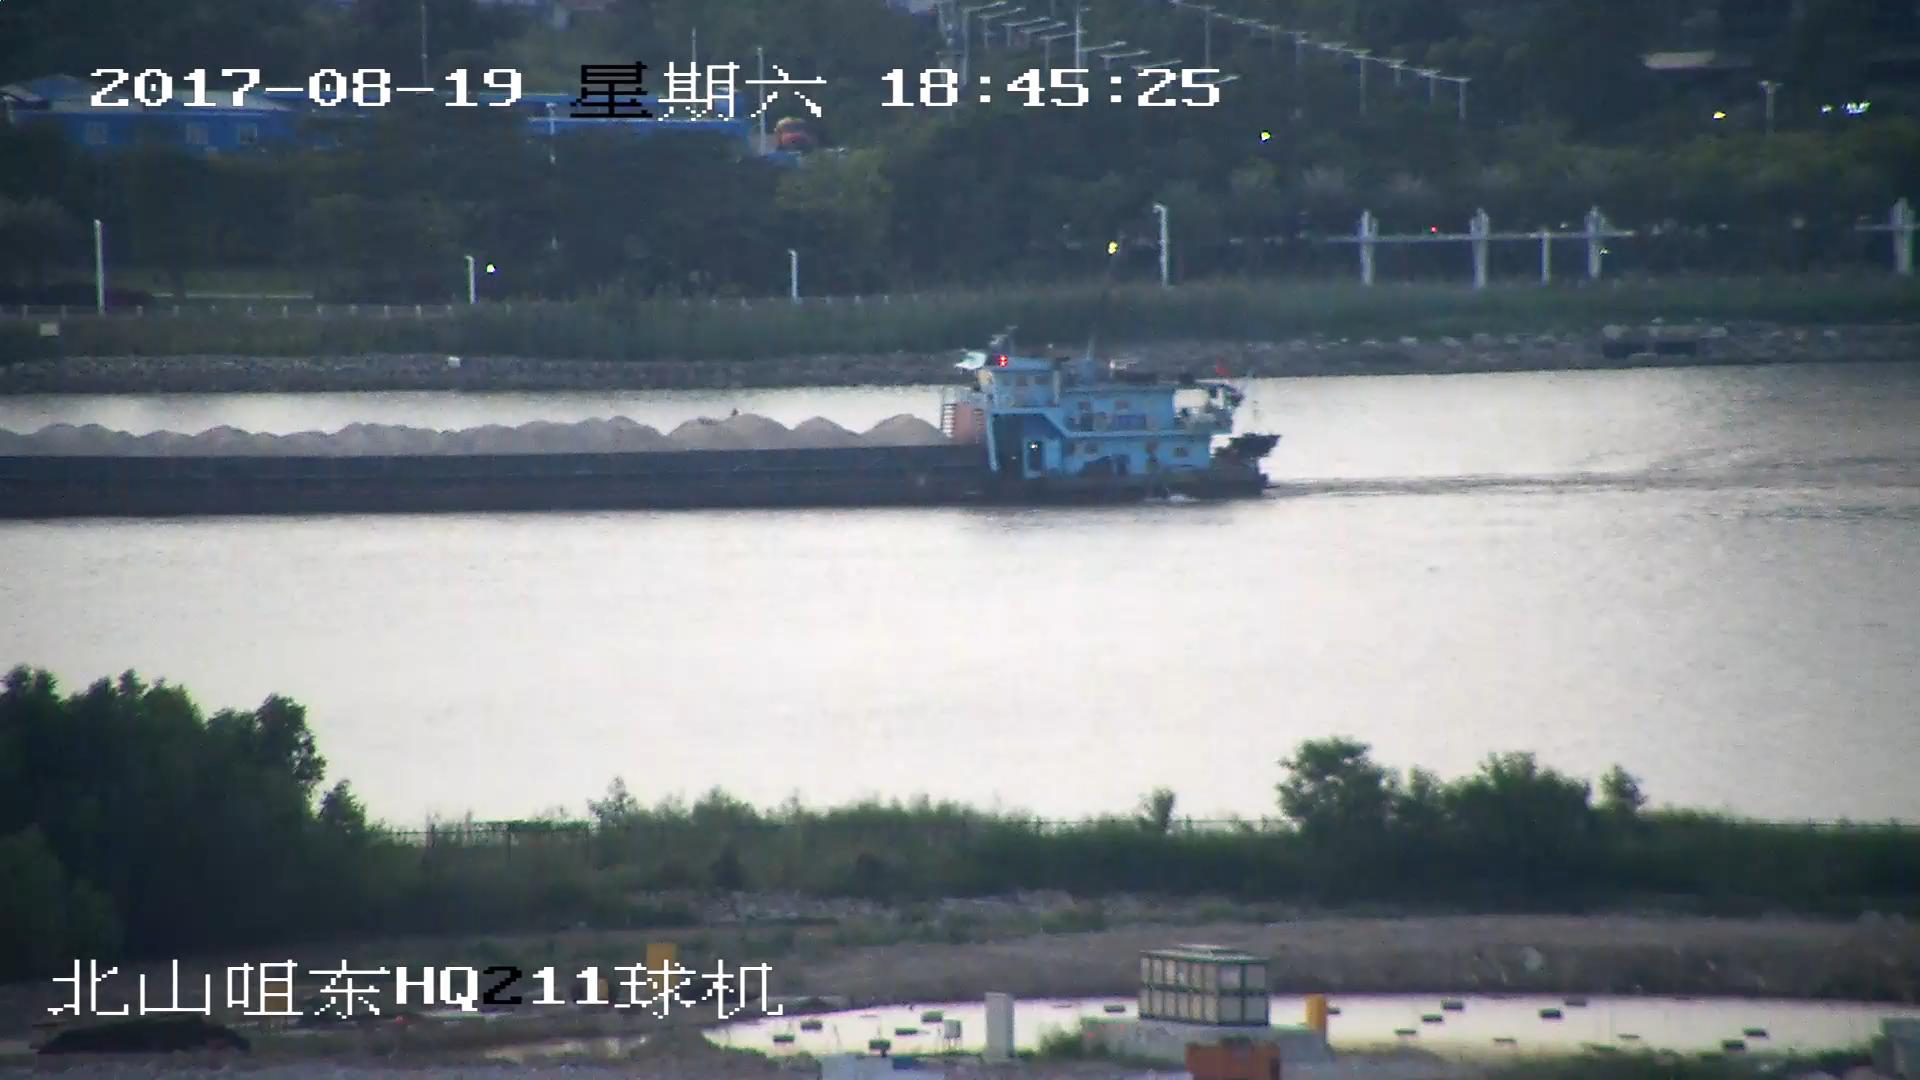Ship: (3, 330, 1283, 516)
